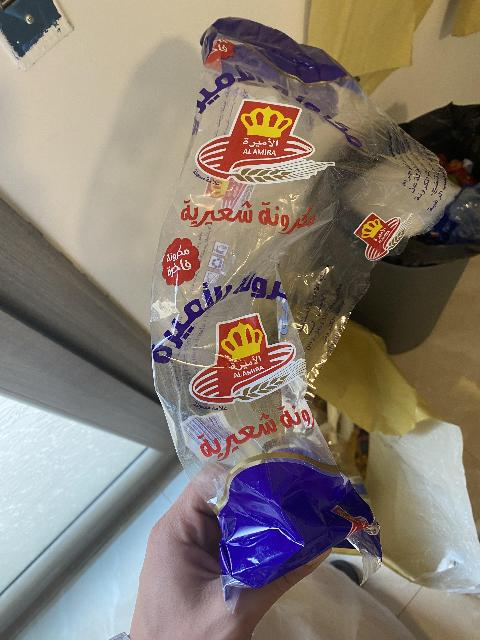Plastik: (149, 13, 437, 584)
